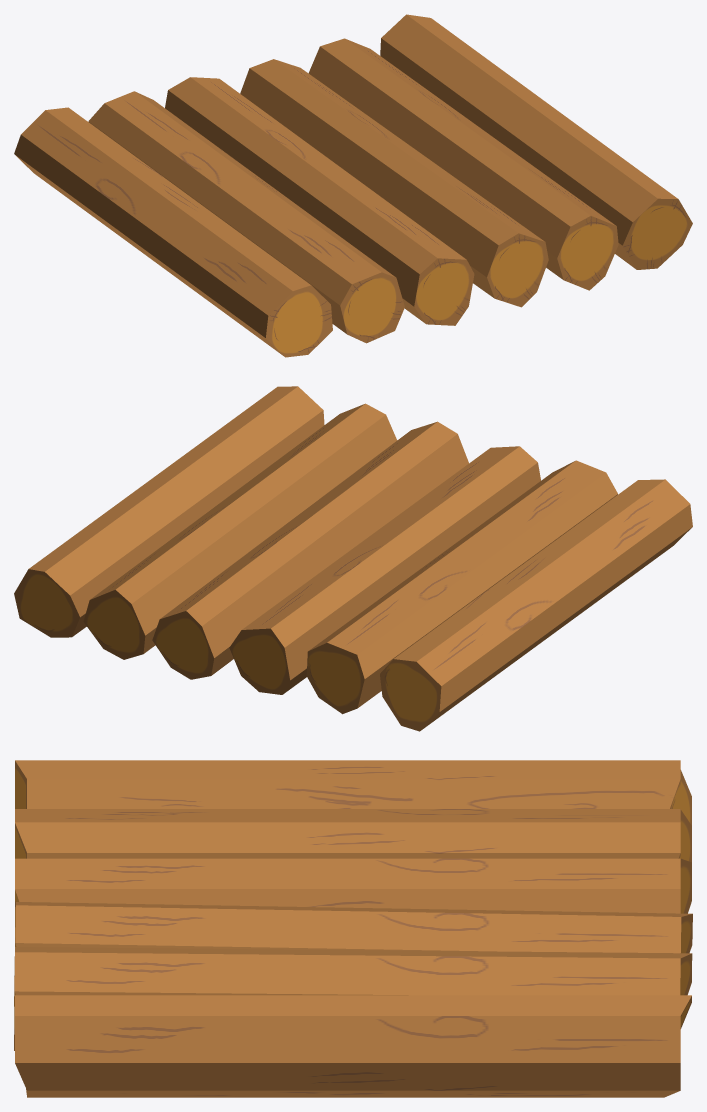
File: Ponte.fbx
3 renders of one model, top to bottom at view 1: azimuth 30°, elevation 25°; view 2: azimuth 150°, elevation 25°; view 3: azimuth 270°, elevation 25°, orthographic. The views are drawn at different scales.
Visible parts, largest first — view 1: Cube.004, Cube.005, Cube.001, Cube.002, Cube.003, Cube; view 2: Cube.004, Cube.001, Cube.005, Cube.003, Cube, Cube.002; view 3: Cube.005, Cube.002, Cube.003, Cube.004, Cube, Cube.001.
Boxes of the visible parts, x1,y1,x2,y2 form: Cube.004: (14,107,332,357); Cube.005: (380,14,692,269); Cube.001: (240,59,548,307); Cube.002: (165,77,474,325); Cube.003: (88,91,404,343); Cube: (308,38,618,290); Cube.004: (380,479,692,731); Cube.001: (152,421,468,679); Cube.005: (14,386,324,637); Cube.003: (306,460,617,714); Cube: (83,403,397,659); Cube.002: (229,446,540,694); Cube.005: (15,995,691,1097); Cube.002: (15,858,691,937); Cube.003: (15,809,691,862); Cube.004: (15,760,691,825); Cube: (14,947,692,1050); Cube.001: (14,902,692,1006).
Bounding box in the file's own units: 1772 × 327 × 1813.
Materials: 1 (1 with a texture image).
